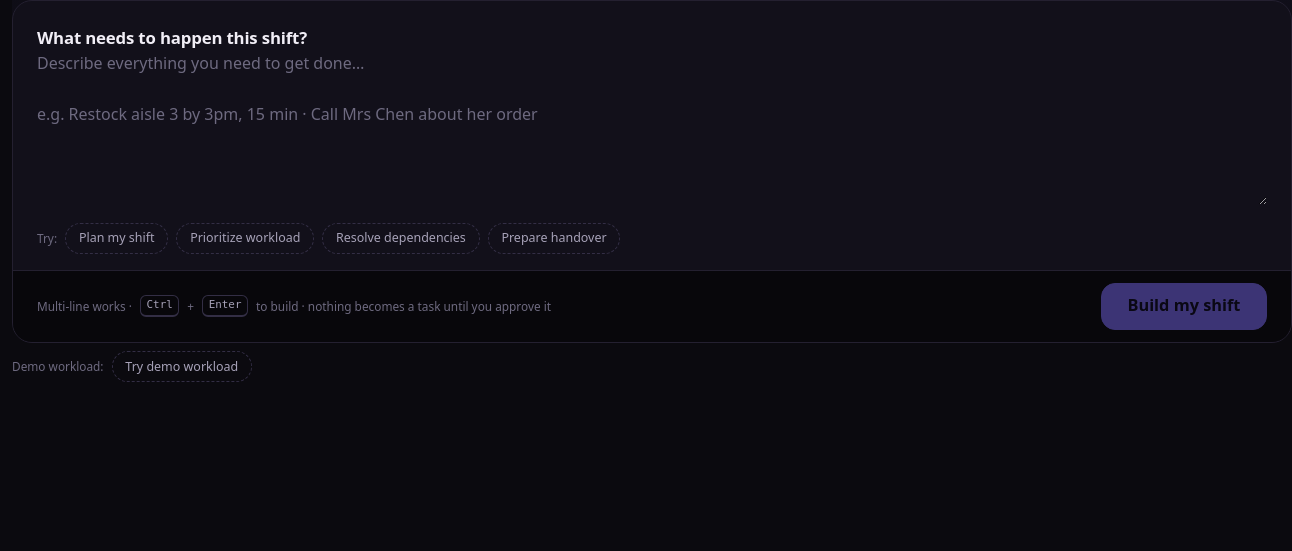
IntakeView › explains an empty extraction instead of showing nothing
In the text box labelled "What needs to happen this shift?": (652, 128) 37,51 -> 1267,205, type "???"
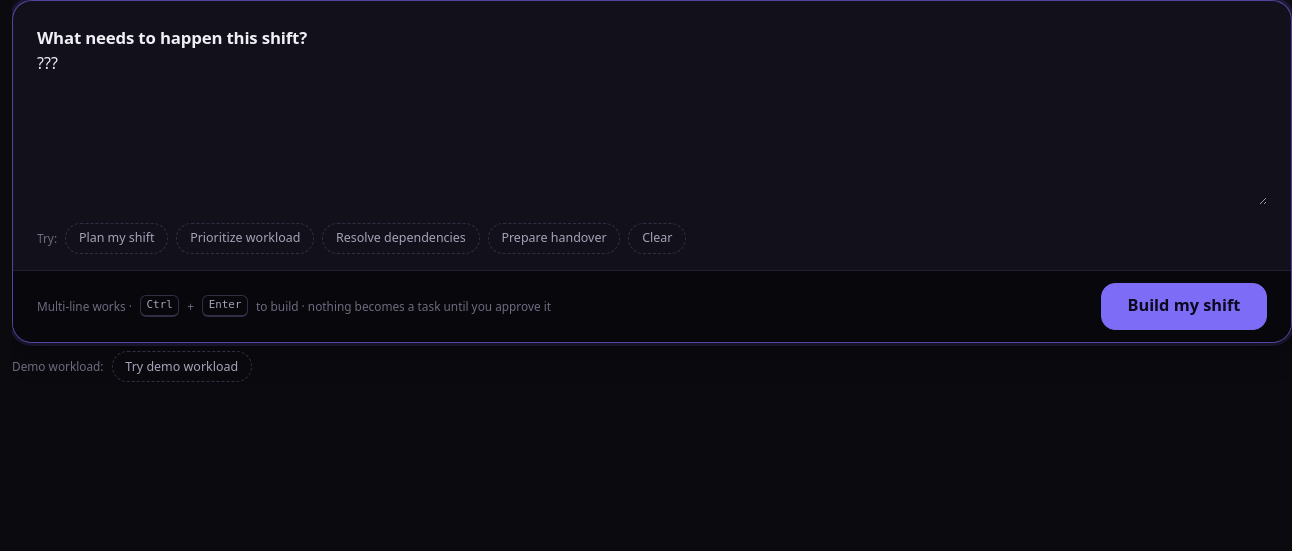
Click the button "Build my shift": (1184, 306) 1101,282 -> 1267,330
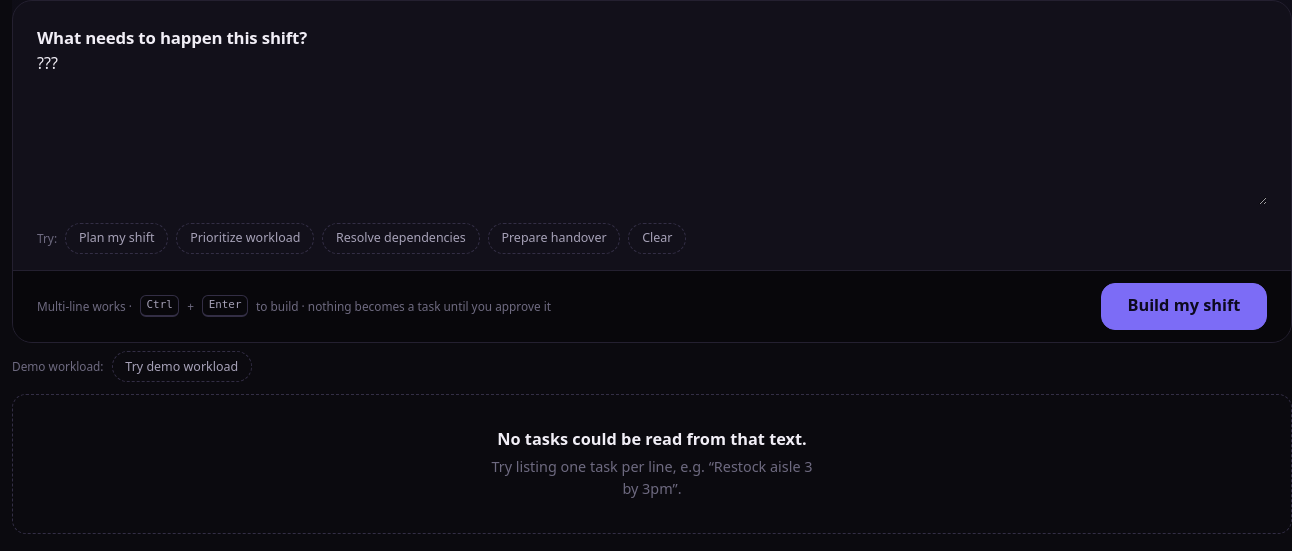
Check: the text "No tasks could be read from that text." is shown, box 497,428 -> 807,450
